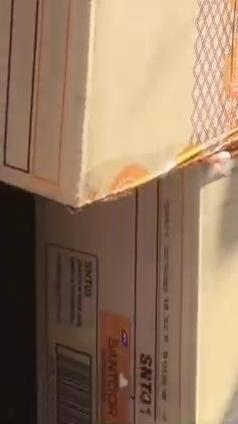box: (37, 159, 237, 423)
